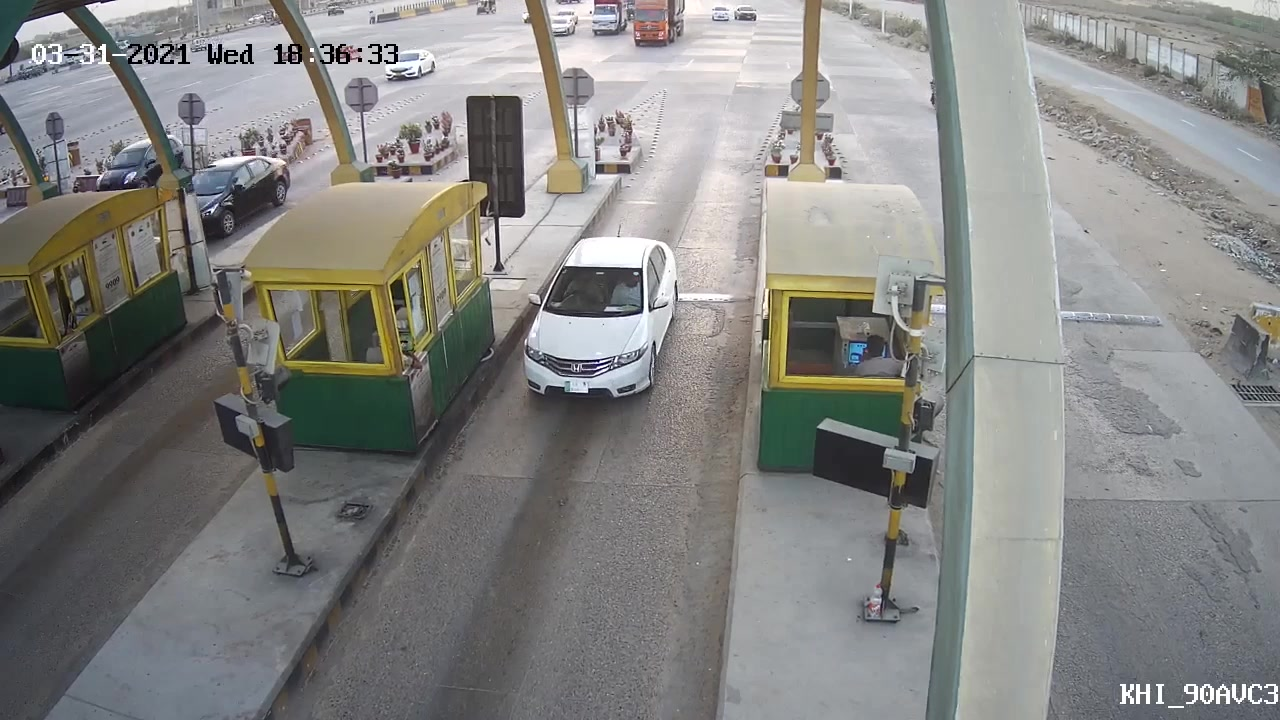F1: (512, 221, 687, 408)
